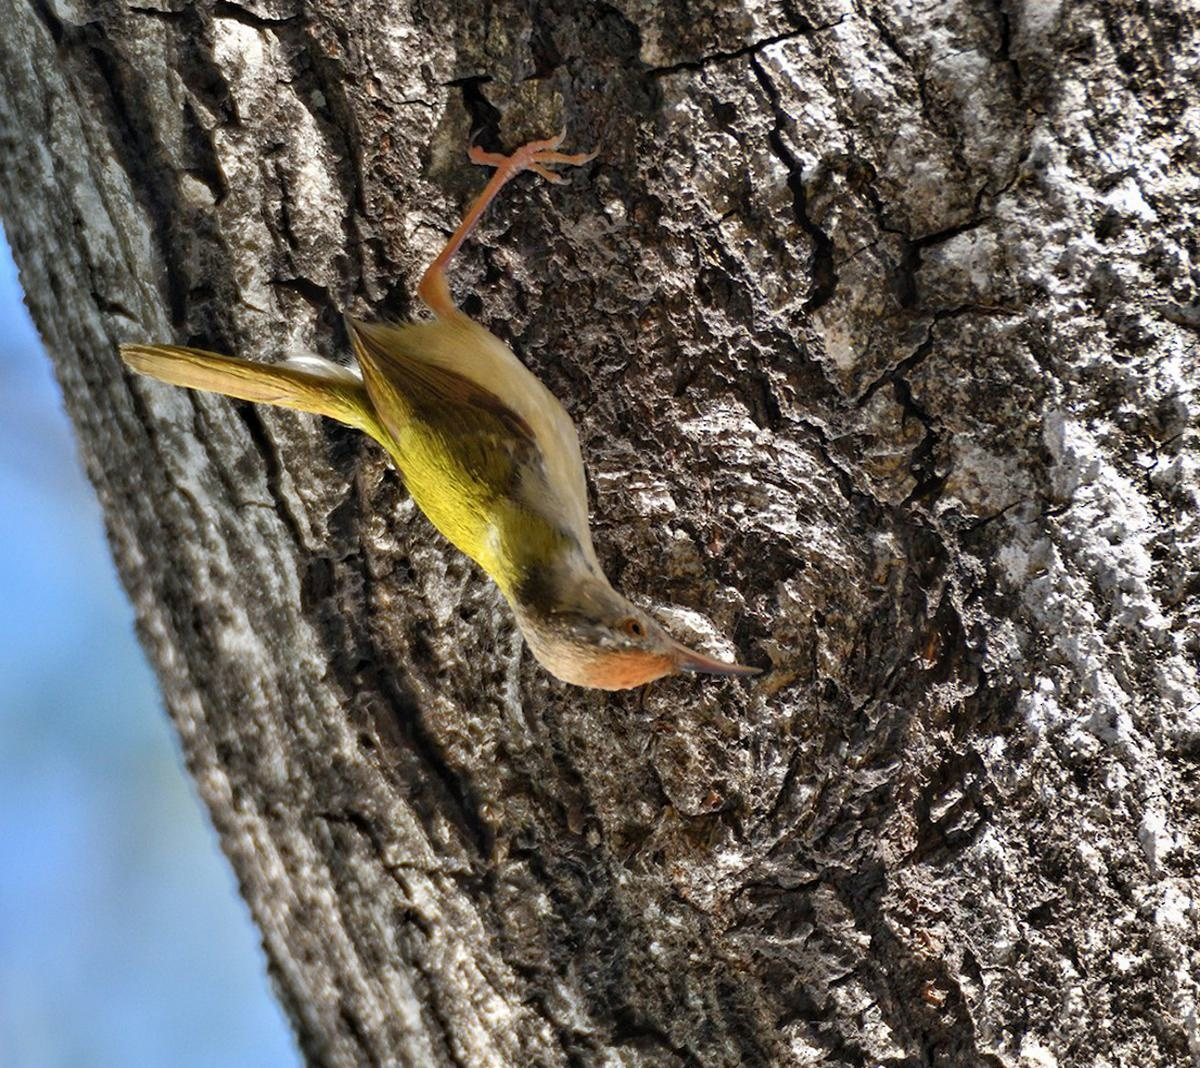tailorbird: (130, 151, 784, 713)
